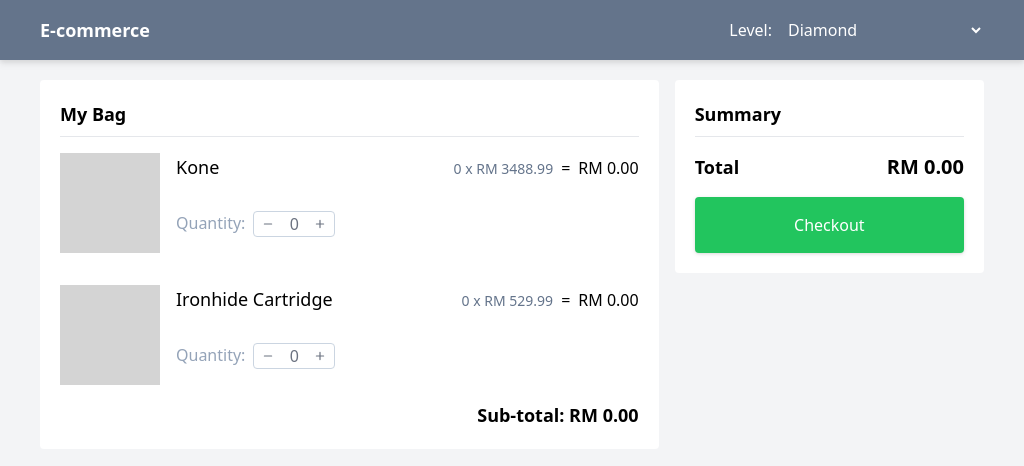
Test: clickin on + button increment quantity
The width and height of the screenshot is (1024, 466).
Expected: the text with test id "quantity" below "Kone" reads "0", [290,213,299,235]
Click the 1st button with test id "btn-plus" at (320, 224), box [306,212,334,236]
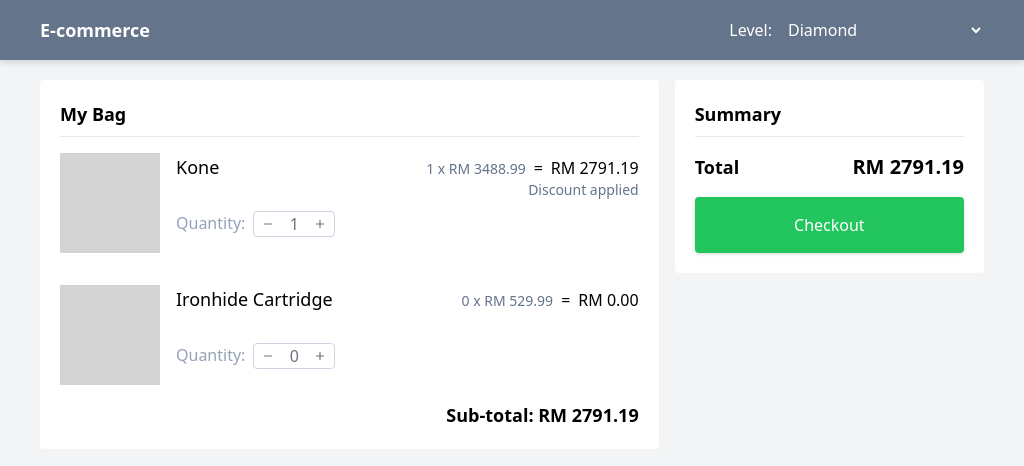
Result: the text with test id "quantity" reads "1" at [290,213,299,235]
